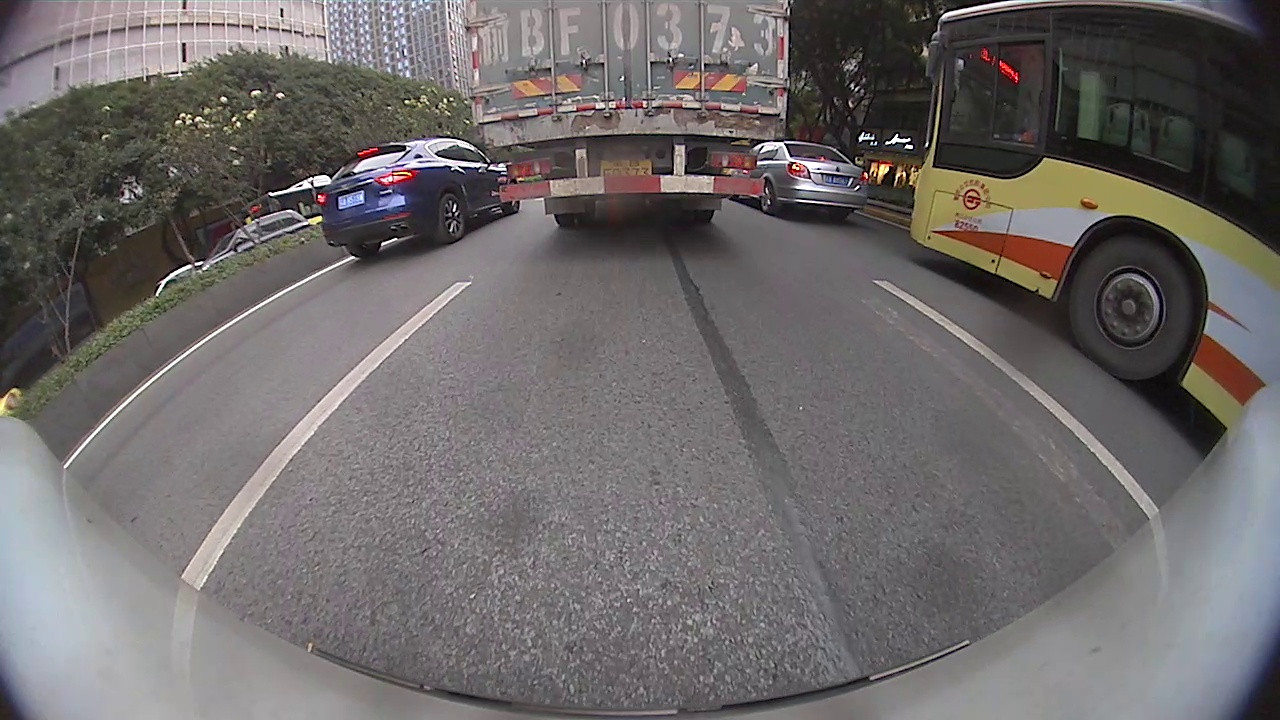bus: (907, 2, 1279, 432)
car: (314, 139, 522, 256), (738, 142, 873, 222)
front: (1067, 234, 1197, 382)
rear: (430, 191, 467, 244), (758, 179, 780, 216)
truck: (466, 0, 789, 229)
